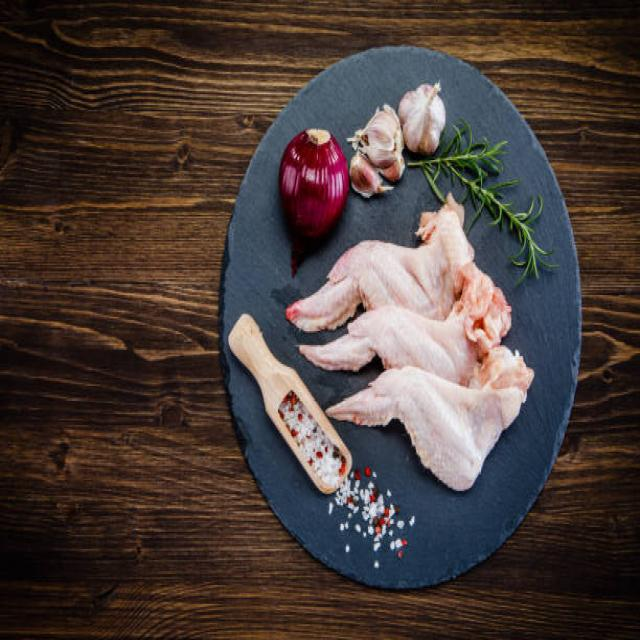Chicken Wing: (341, 359, 528, 484), (298, 220, 468, 335)
Garlic bulb: (400, 83, 446, 156)
Onion: (275, 124, 350, 239)
